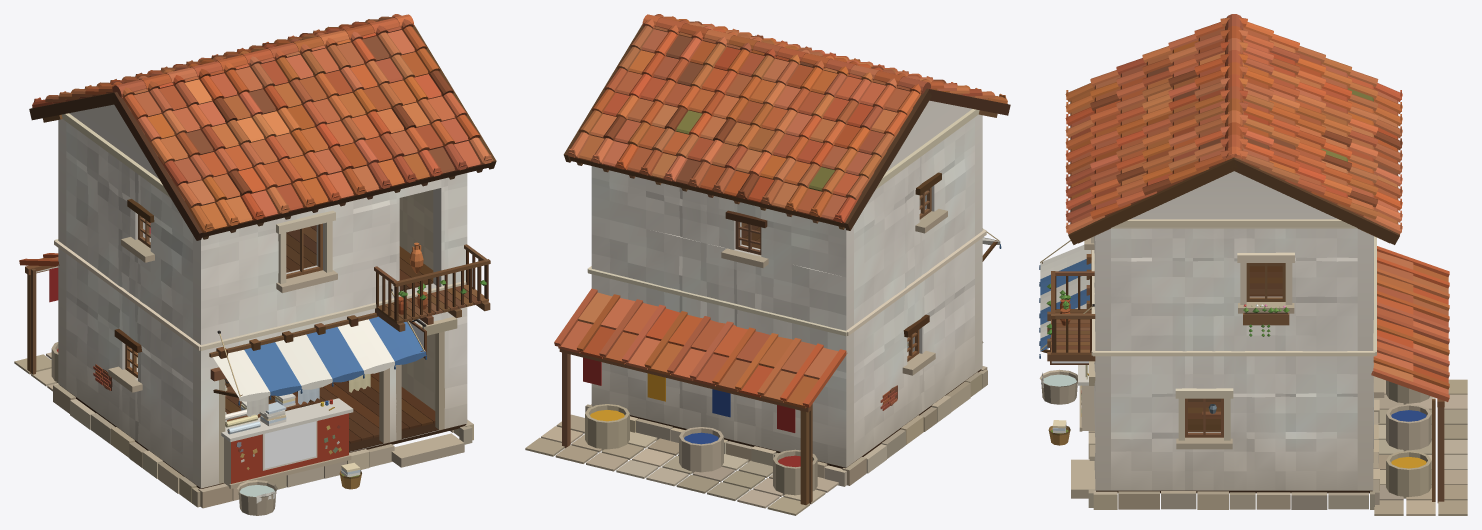
The model's file is shop_fullonica.glb.
3 views of the same model, side by side, from view 1: azimuth 30°, elevation 25°; view 2: azimuth 150°, elevation 25°; view 3: azimuth 270°, elevation 25° (orthographic). The views are drawn at different scales.
Visible parts, largest first — view 1: House, Walls, Rooms; view 2: House, Walls; view 3: House, Walls, Rooms.
Boxes of the visible parts, box(x1,y1,x2,y2) form: House: box(14, 14, 496, 515); Walls: box(58, 104, 467, 488); Rooms: box(136, 190, 435, 443); House: box(525, 14, 1010, 515); Walls: box(591, 100, 982, 467); House: box(1039, 14, 1467, 515); Walls: box(1094, 171, 1373, 490); Rooms: box(1188, 263, 1282, 432).
Size of the model in its own units: 4.78 by 5.58 by 6.01.
7 materials, 7 textured.
